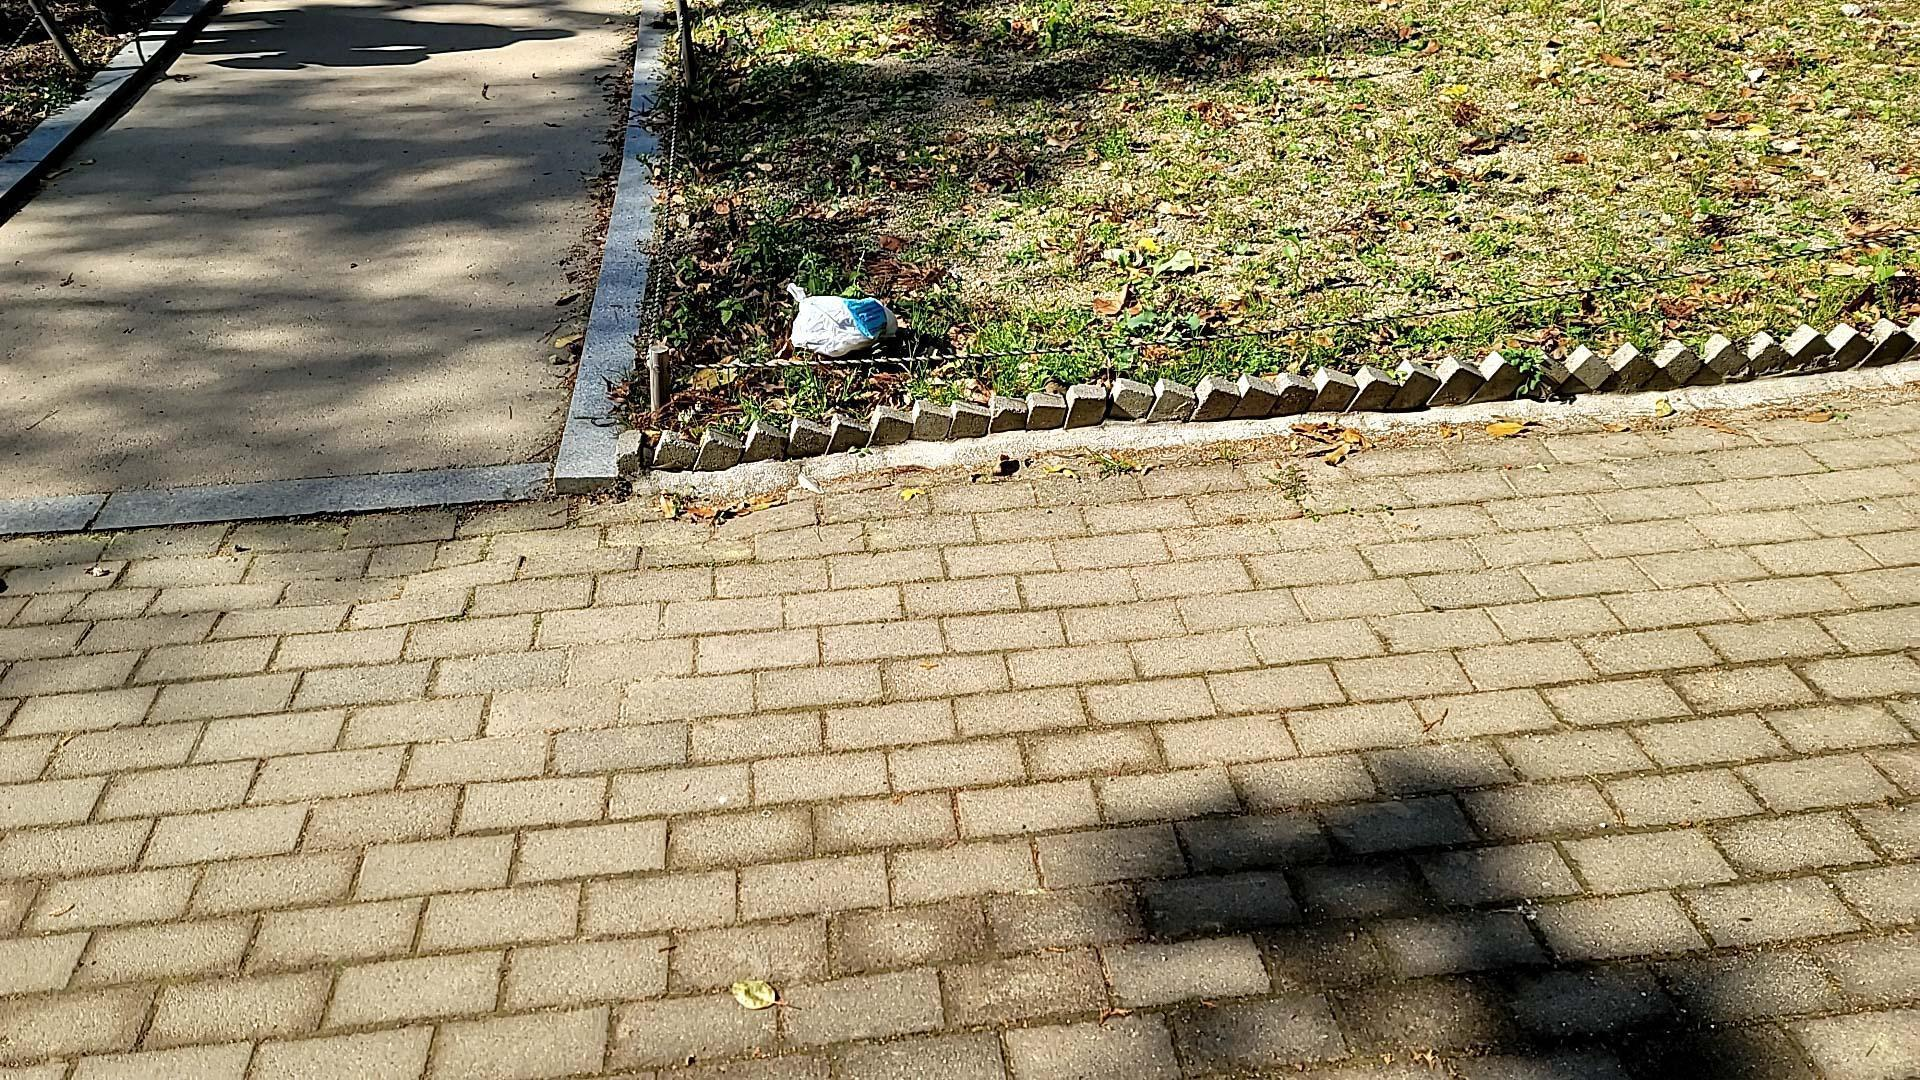white_bag: (781, 278, 903, 356)
